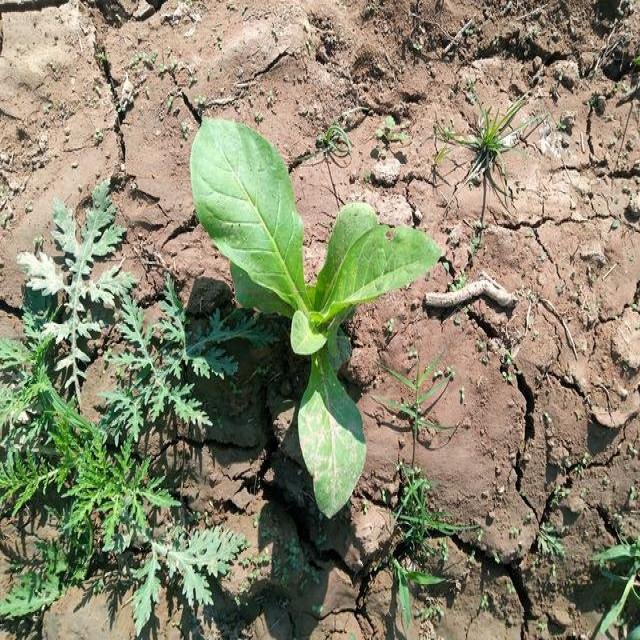crop: (195, 111, 427, 502)
